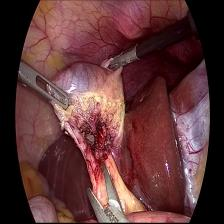Grasper: (86, 160, 130, 224), (17, 59, 70, 112), (107, 44, 142, 70)
